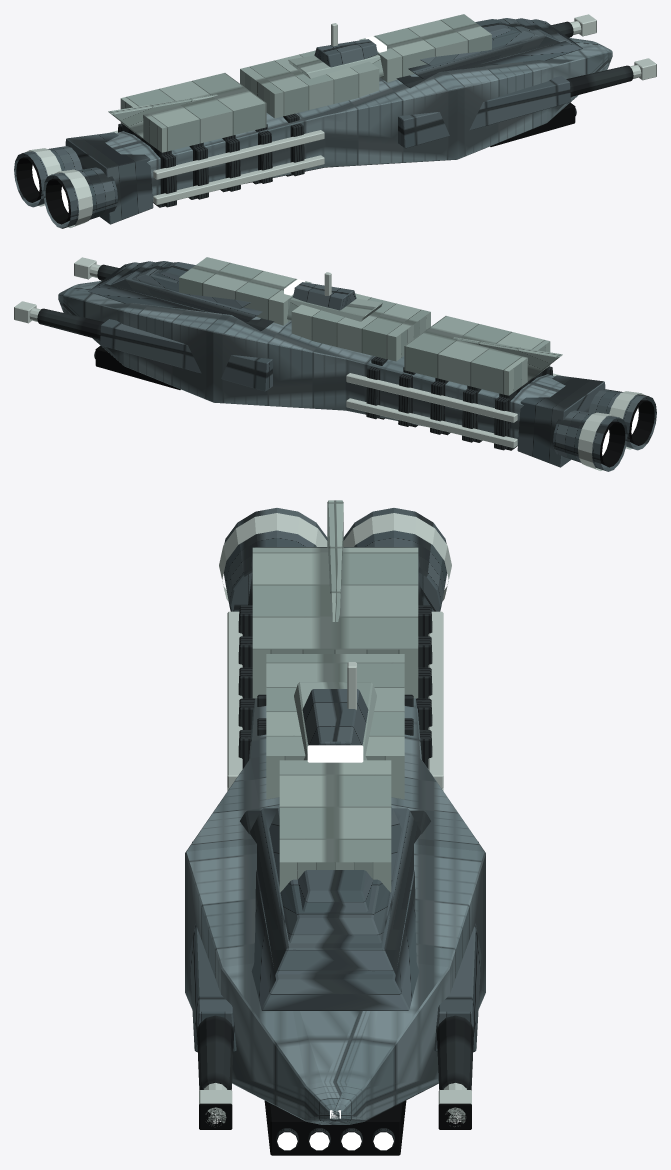
File: destroyer.glb
The picture shows the model from 3 angles, top to bottom: view 1: azimuth 30°, elevation 25°; view 2: azimuth 150°, elevation 25°; view 3: azimuth 270°, elevation 25°; orthographic projection. The views are drawn at different scales.
Visible parts, largest first — view 1: destroyer; view 2: destroyer; view 3: destroyer.
Part boxes in pixels (bbox=[...]): destroyer: bbox=[14, 14, 656, 228]; destroyer: bbox=[14, 257, 656, 471]; destroyer: bbox=[185, 500, 485, 1155].
Bounding box in the file's own units: 30 × 6.89 × 6.74.
Materials: 1 (1 with a texture image).
